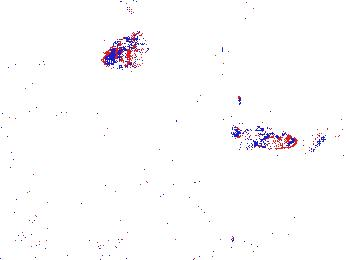X-ray fish: (55, 85, 105, 129), (100, 32, 151, 71)
red belly glassfish: (227, 123, 298, 151)
